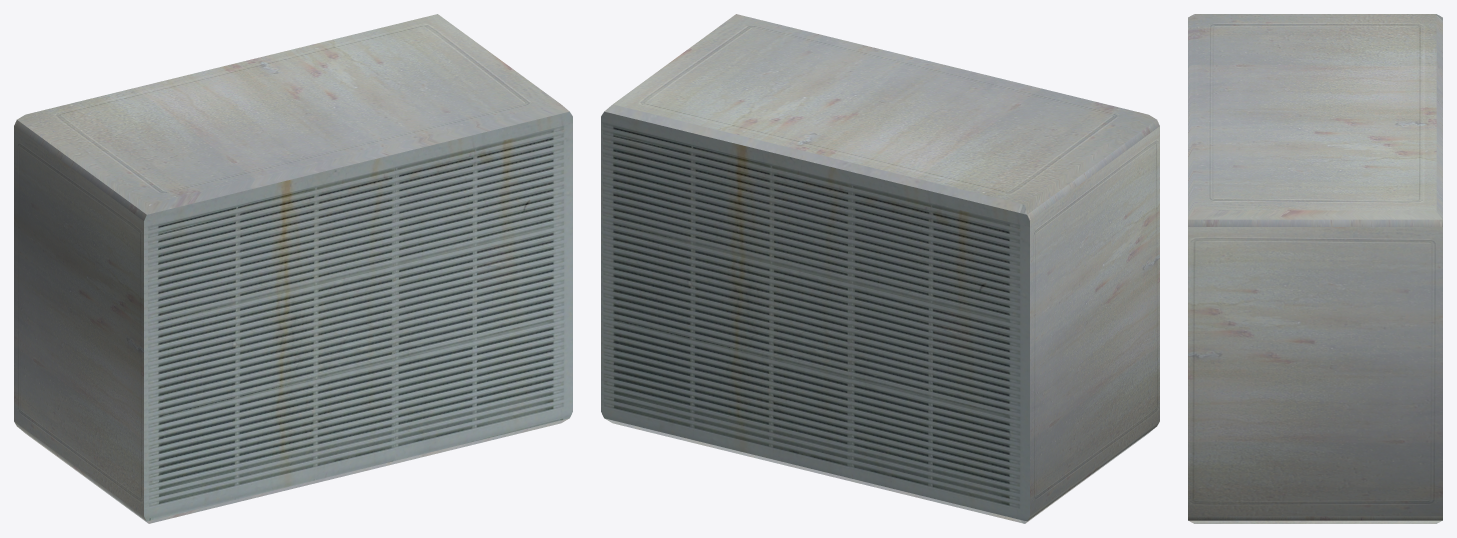
File: AirCon003.fbx
3 renders of one model, left to right at view 1: azimuth 30°, elevation 25°; view 2: azimuth 150°, elevation 25°; view 3: azimuth 270°, elevation 25°, orthographic. The views are drawn at different scales.
Visible parts, largest first — view 1: Air003; view 2: Air003; view 3: Air003.
Boxes of the visible parts, x1,y1,x2,y2 form: Air003: (14, 14, 572, 523); Air003: (601, 14, 1159, 523); Air003: (1188, 14, 1442, 523).
Bounding box in the file's own units: 147 × 105 × 77.29.
